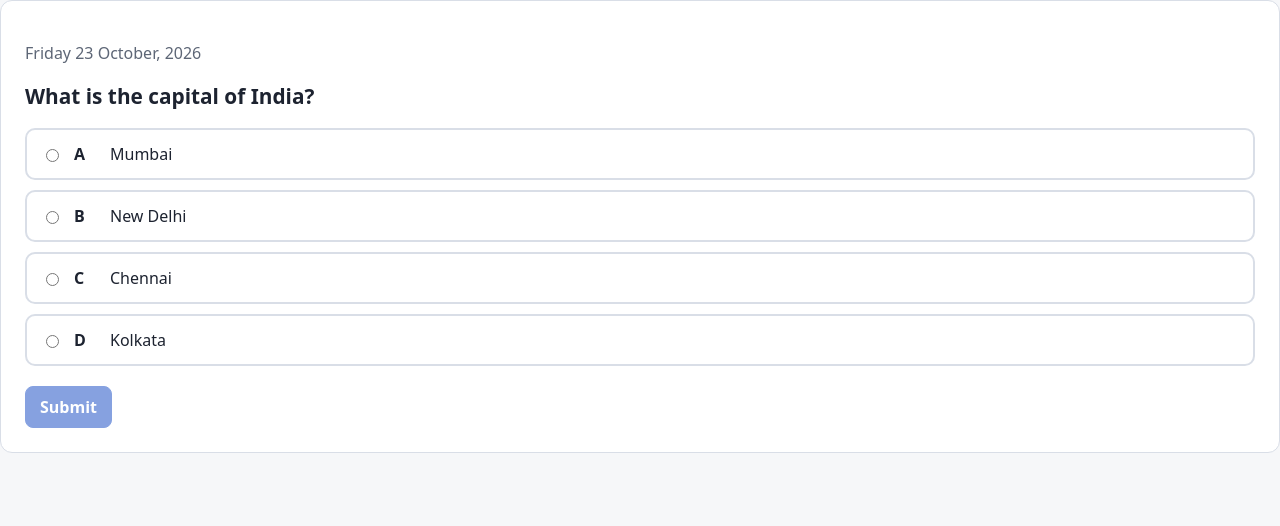
Scenario: Quiz › submits a correct answer, reveals it in green and celebrates
Expected: the button "Submit" is disabled, [25, 386, 112, 428]
Expected: the text "Correct answer" is not shown
Click the radio button labelled "B New Delhi": (52, 218) [46, 211, 59, 224]
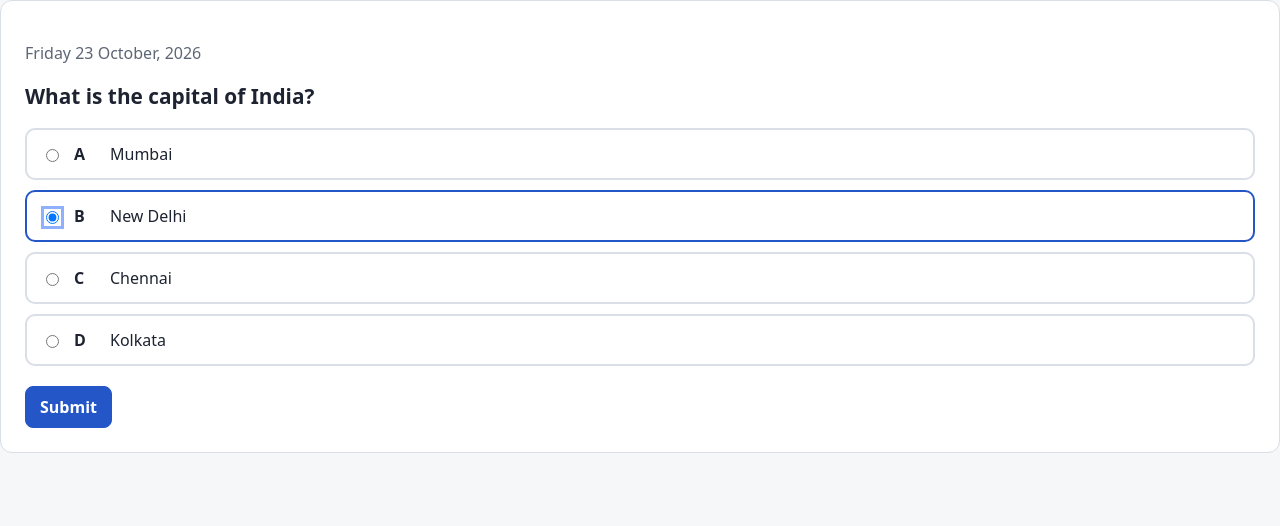
Expected: the button "Submit" is enabled
Click the button "Submit": (68, 407) [25, 386, 112, 428]
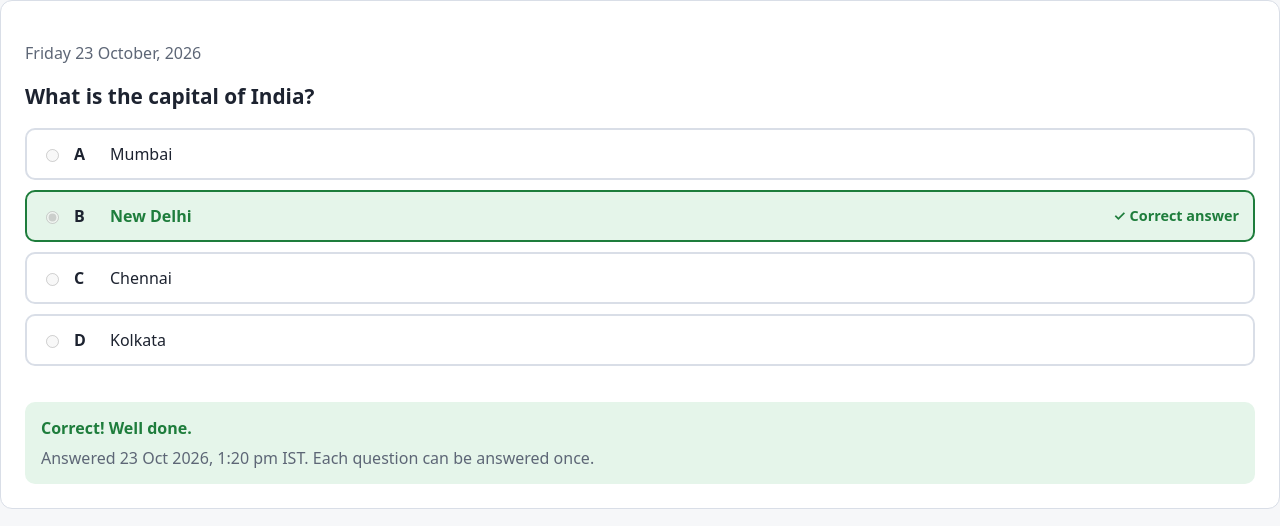
Expected: the text "Correct! Well done." is shown, [41, 417, 192, 439]
Expected: the text "✓ Correct answer" is shown, [1113, 205, 1239, 227]
Expected: the button "Submit" is gone
